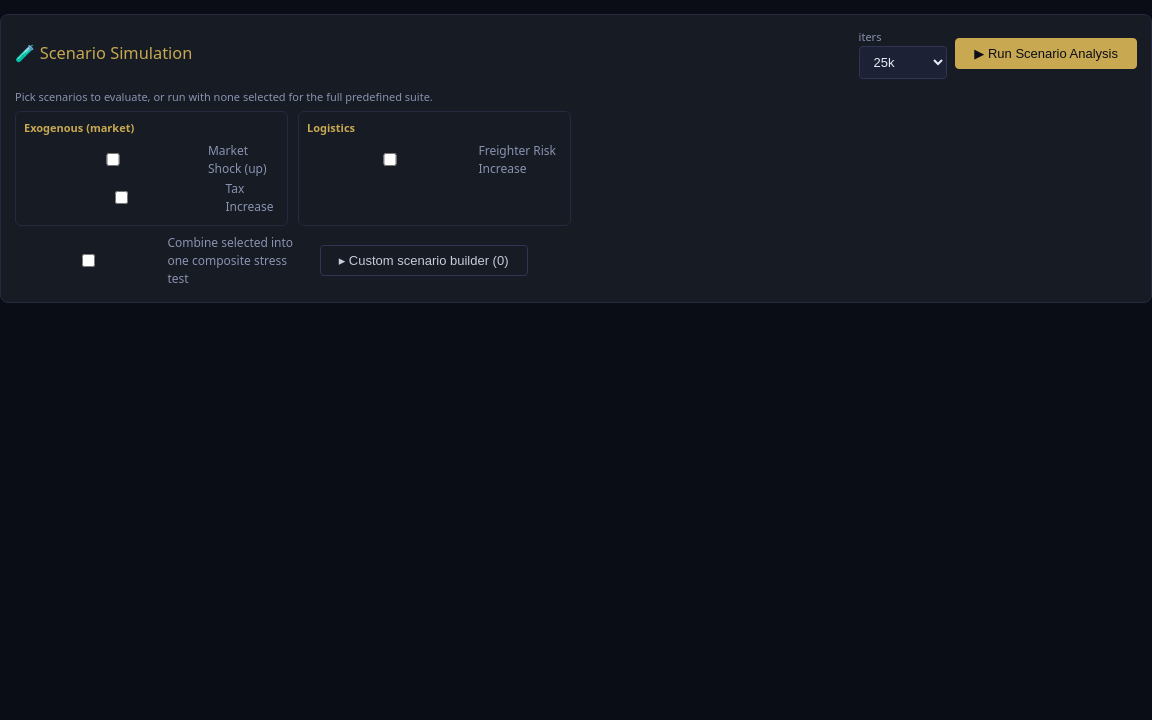
Scenario: ScenarioPanel › runs the analysis and renders the comparison table + ranking
Expected: the text "Market Shock (up)" is shown, [24,140,279,178]
Click the button "▶ Run Scenario Analysis" at x=1046, y=54, box [955,38,1137,69]
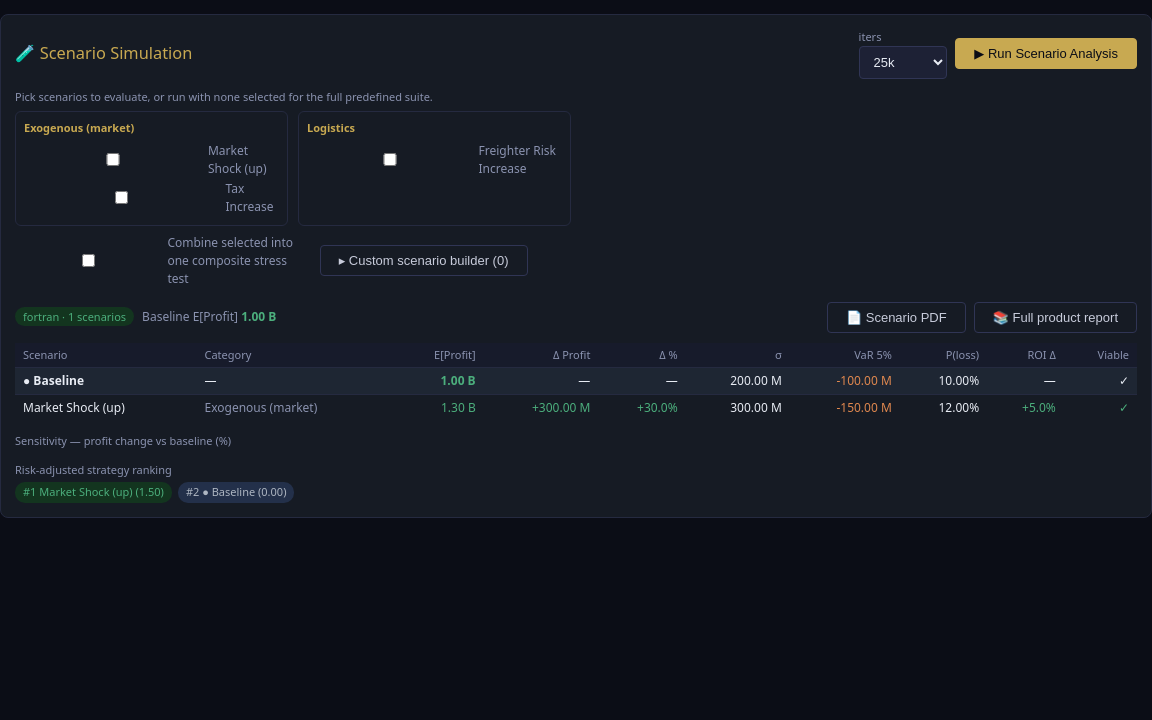
Expected: the text "● Baseline" is shown, [15,368,196,394]
Expected: the text "+30.0%" is shown, [598,394,686,421]
Expected: the text "#1 Market Shock (up) (1.50)" is shown, [15,482,172,502]
